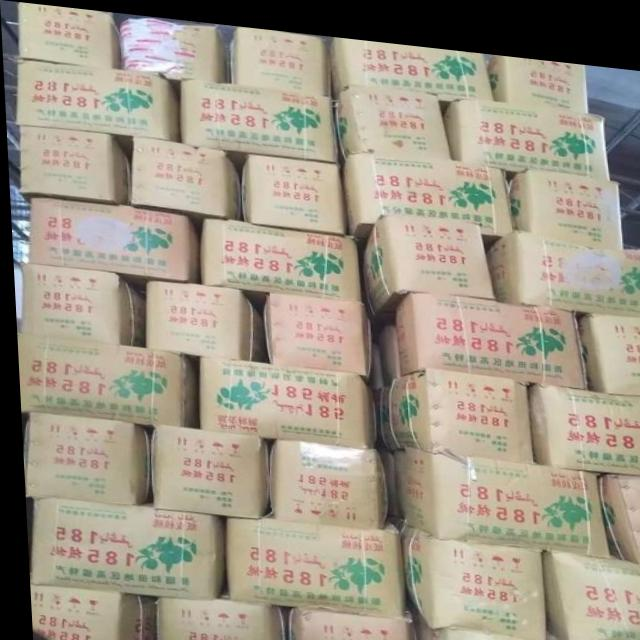box: (397, 438, 606, 544), (23, 496, 220, 598), (392, 283, 583, 377), (219, 512, 399, 609), (25, 194, 197, 294), (392, 512, 540, 627), (14, 58, 177, 158), (341, 145, 511, 240), (14, 334, 192, 424), (194, 352, 372, 439), (198, 215, 358, 307), (178, 75, 338, 165), (378, 359, 531, 451), (358, 205, 493, 305), (483, 219, 640, 302), (442, 88, 609, 165), (17, 411, 147, 503), (148, 423, 264, 515), (129, 133, 239, 225), (525, 372, 640, 460), (328, 29, 493, 90), (17, 264, 141, 345), (537, 539, 640, 636), (266, 433, 382, 518), (261, 287, 369, 371), (142, 277, 259, 354), (120, 15, 228, 97), (332, 77, 450, 151), (507, 157, 620, 234), (18, 126, 130, 202), (239, 149, 346, 226), (24, 583, 150, 640), (229, 21, 329, 89), (18, 2, 120, 66), (410, 611, 635, 640), (149, 595, 279, 640), (486, 44, 589, 98), (576, 300, 640, 382), (281, 602, 410, 640), (593, 461, 640, 550)
